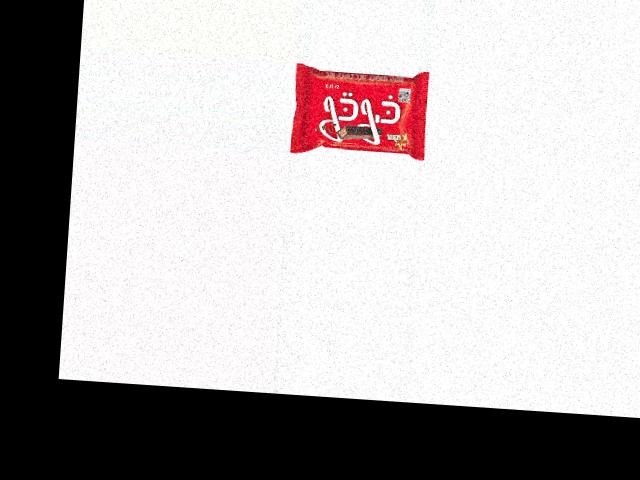chocolate: (291, 61, 429, 161)
